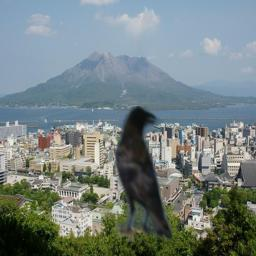Crow: (114, 106, 172, 242)
